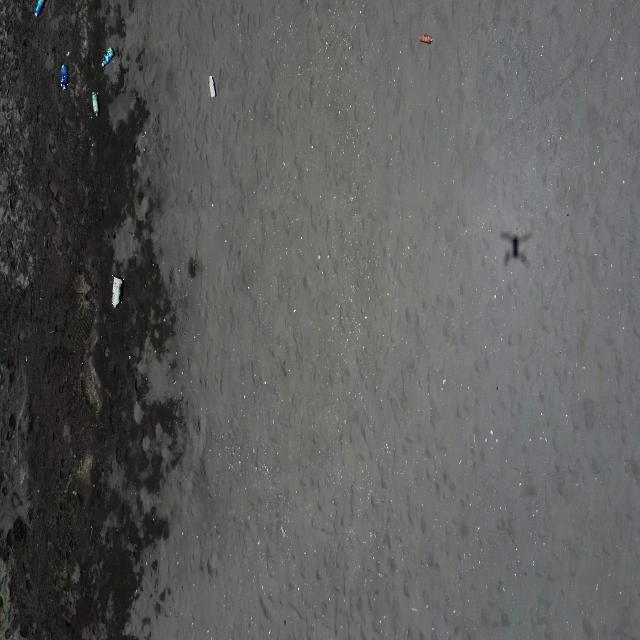plastic-bottle: (111, 275, 124, 309), (102, 44, 114, 68), (91, 90, 101, 118), (35, 0, 46, 19), (208, 74, 216, 100), (61, 64, 68, 92)
